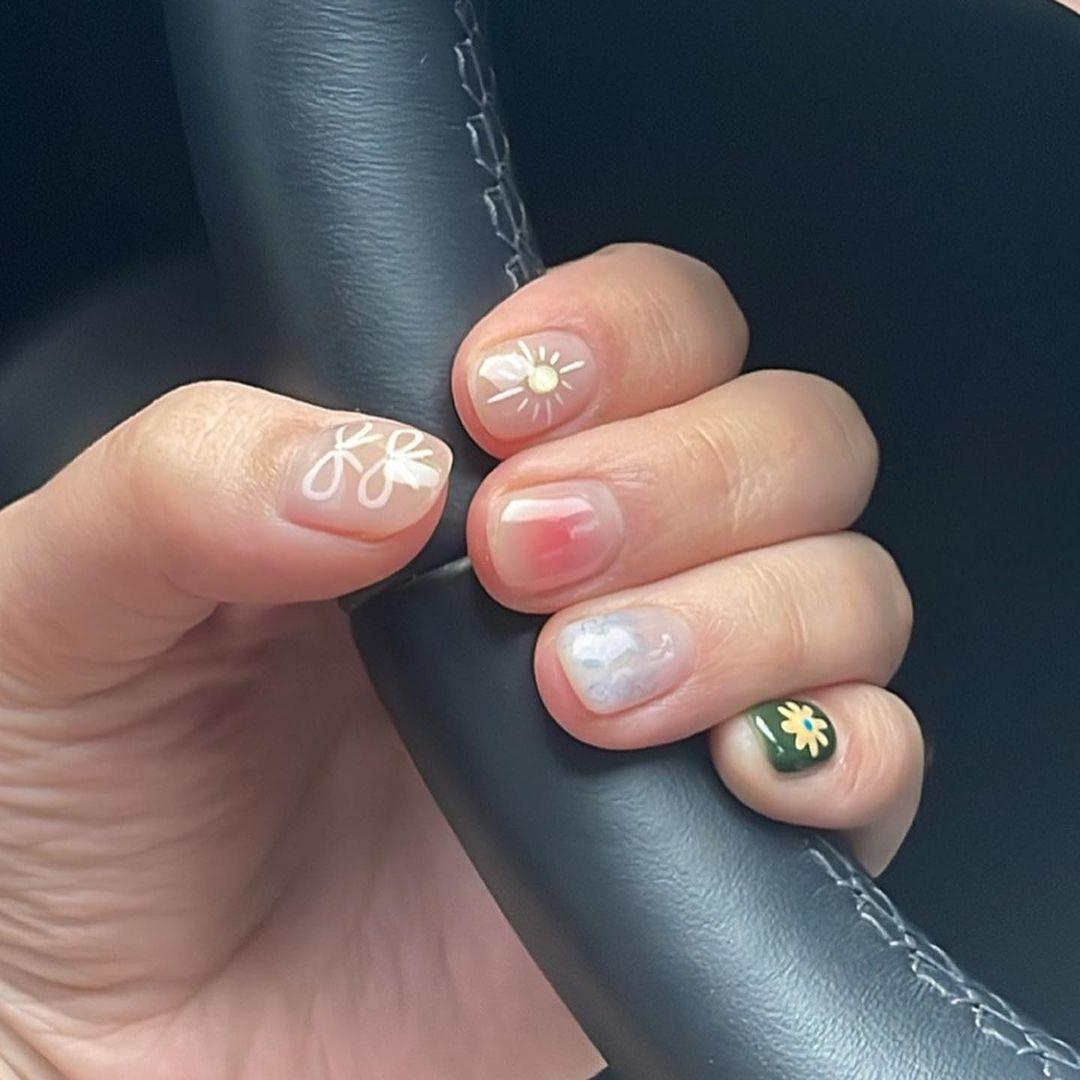nail: (278, 411, 453, 542), (486, 476, 624, 596), (467, 324, 599, 444), (554, 603, 692, 716), (746, 695, 838, 774)
